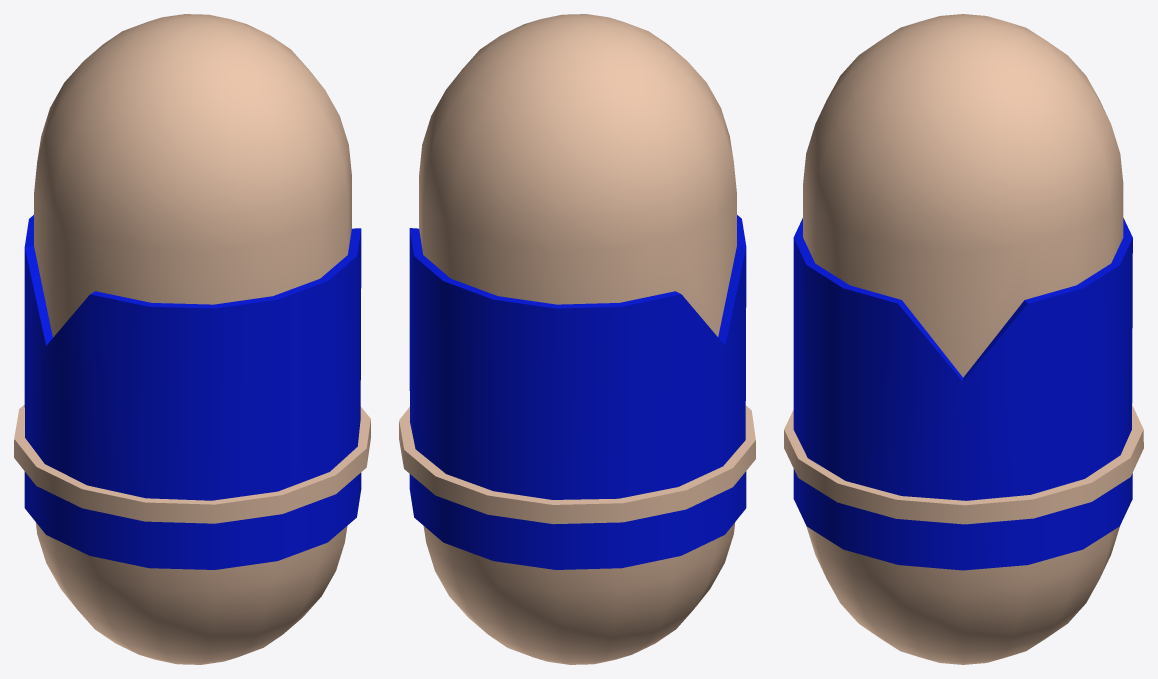
File: Billy 2.0.fbx
3 views of the same model, side by side, from view 1: azimuth 30°, elevation 25°; view 2: azimuth 150°, elevation 25°; view 3: azimuth 270°, elevation 25° (orthographic).
Visible parts, largest first — view 1: Billy 2.0; view 2: Billy 2.0; view 3: Billy 2.0.
Part boxes in pixels (x1=…): Billy 2.0: x1=14, y1=14, x2=370, y2=664; Billy 2.0: x1=399, y1=14, x2=755, y2=664; Billy 2.0: x1=784, y1=14, x2=1143, y2=664.
Bounding box in the file's own units: 91.6 × 175 × 91.61.
